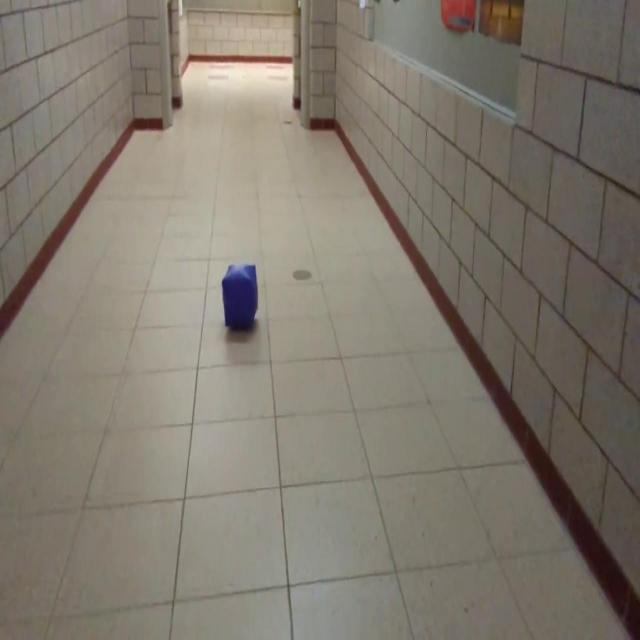frc_cube: (222, 263, 260, 336)
